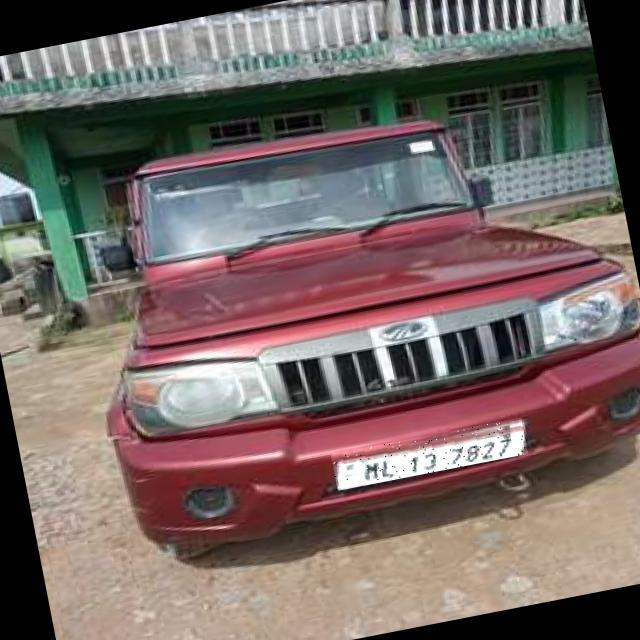Plate: (332, 419, 529, 492)
